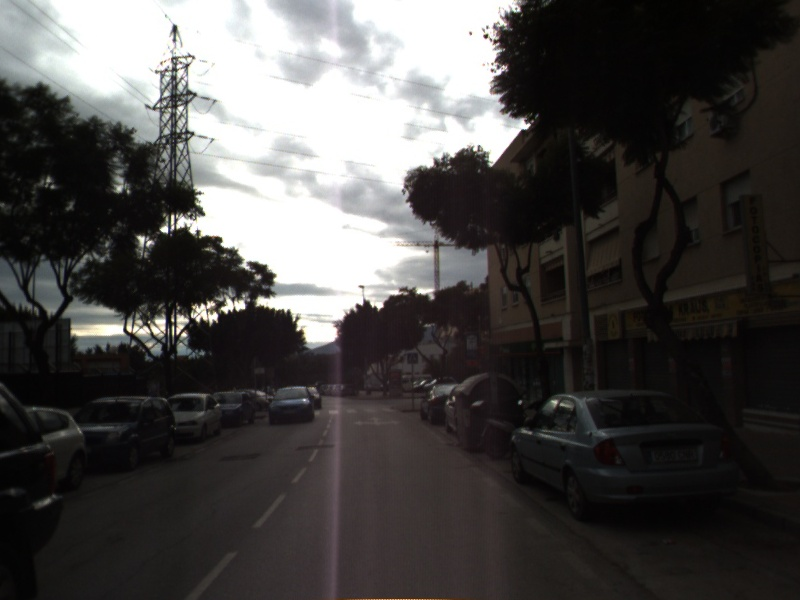STRAIGHT_LEFT_RIGHT: (352, 414, 402, 428)
